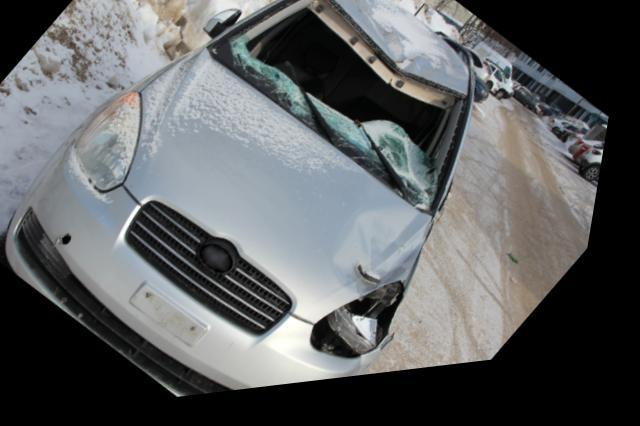dent: (341, 0, 473, 107), (342, 217, 441, 304)
glass shatter: (215, 0, 469, 223)
lamp broken: (324, 290, 417, 366)
